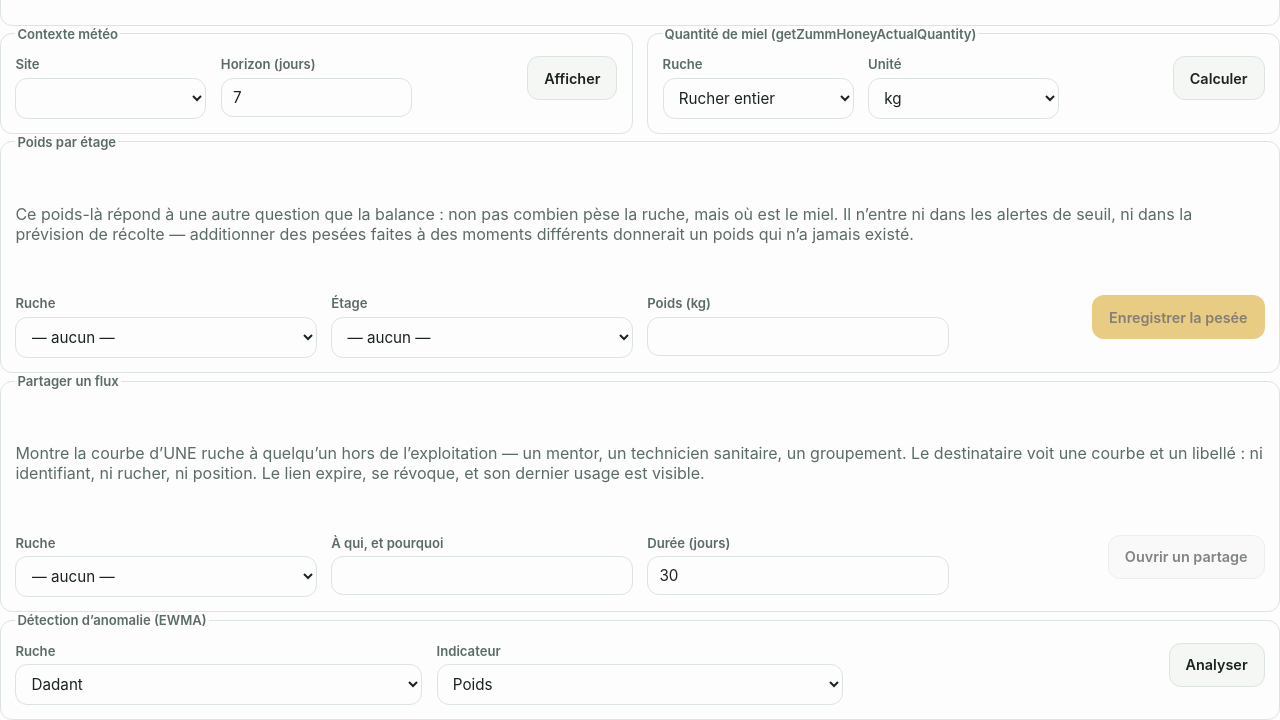
Test: partage de flux › affiche l’URL une seule fois, et le dit
(page scrolled)
Select "Dadant" in the dropdown labelled "Ruche" below "À qui, et pourquoi" at (166, 576), box [15,556,317,597]
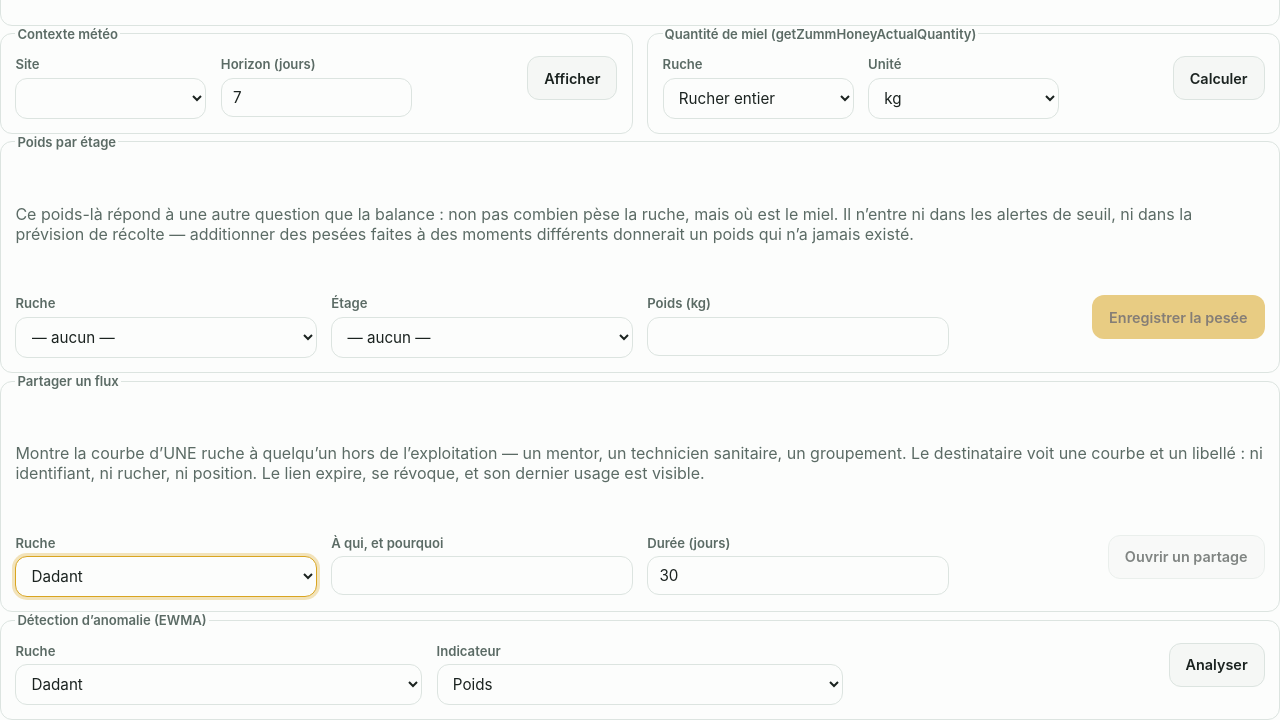
Type "Technicien" into the field labelled "À qui, et pourquoi" at (482, 576), box [331,556,633,595]
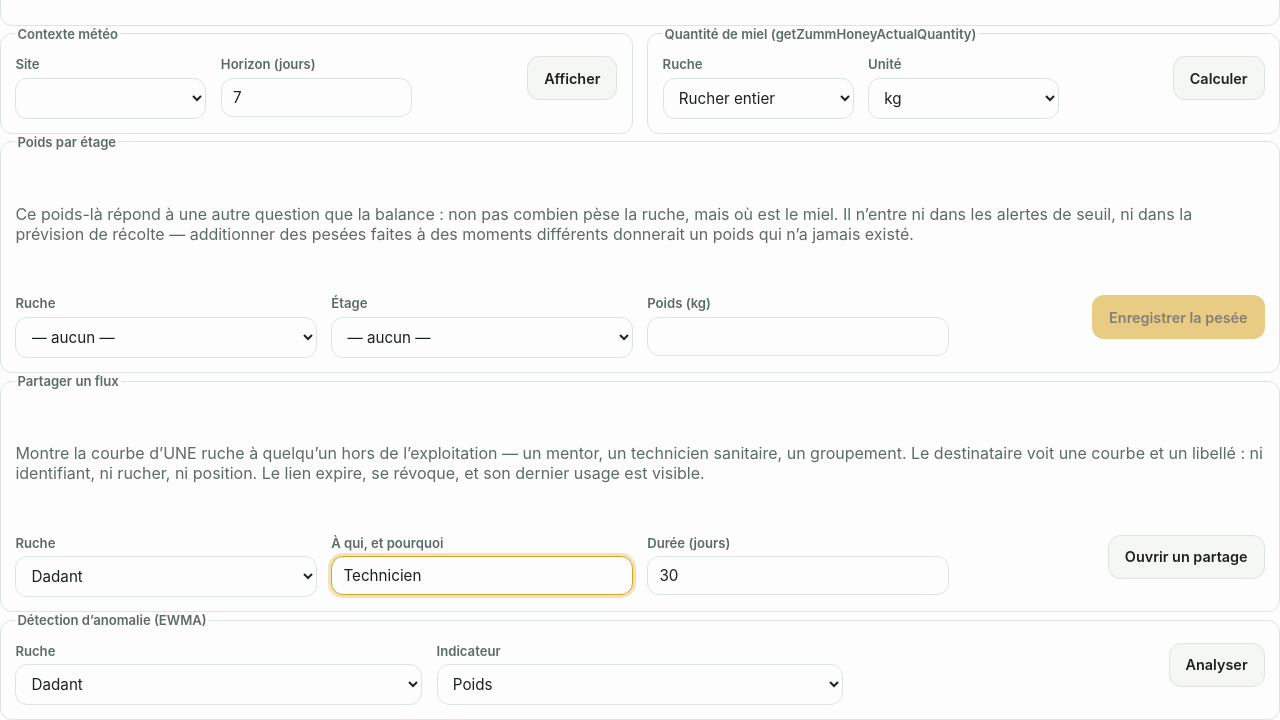
Click the button "Ouvrir un partage" at (1186, 557), box [1108,535,1265,579]
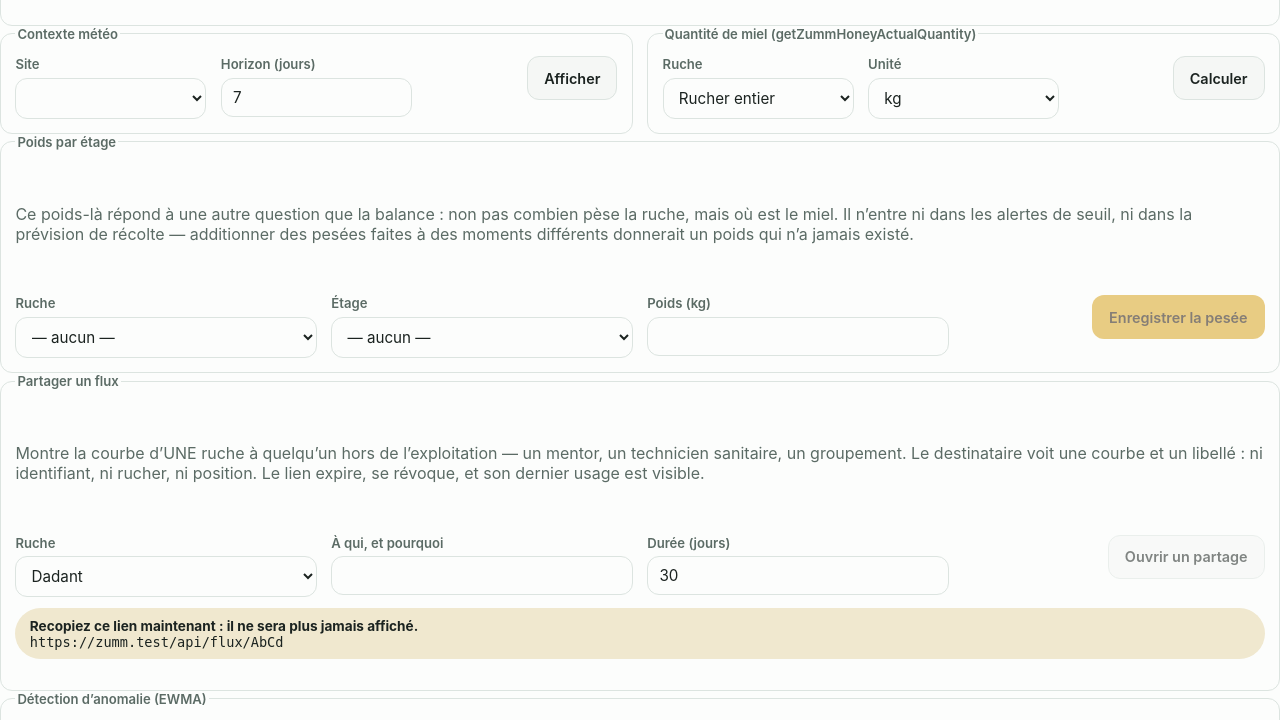
Check: the text "il ne sera plus jamais affiché" is shown, box [30,618,418,634]
Check: the text "https://zumm.test/api/flux/AbCd" is shown, box [30,634,284,650]
